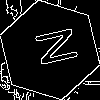N: (25, 25, 79, 70)
